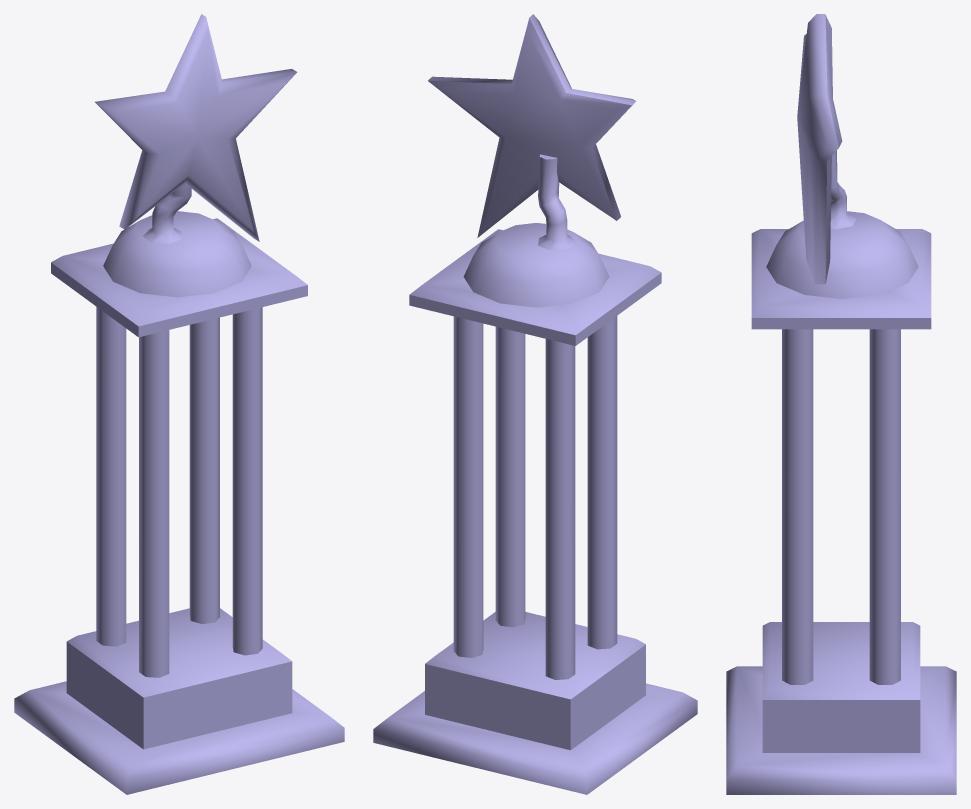
The model's file is Cup_04.fbx.
3 renders of one model, left to right at view 1: azimuth 30°, elevation 25°; view 2: azimuth 150°, elevation 25°; view 3: azimuth 270°, elevation 25°, orthographic. The views are drawn at different scales.
Parts seen in each view (by area): view 1: Cup_04; view 2: Cup_04; view 3: Cup_04.
Boxes of the visible parts, x1=… form: Cup_04: x1=14, y1=14, x2=344, y2=794; Cup_04: x1=373, y1=14, x2=697, y2=794; Cup_04: x1=726, y1=14, x2=956, y2=794.
Size of the model in its own units: 18.98 by 58.85 by 16.77.
